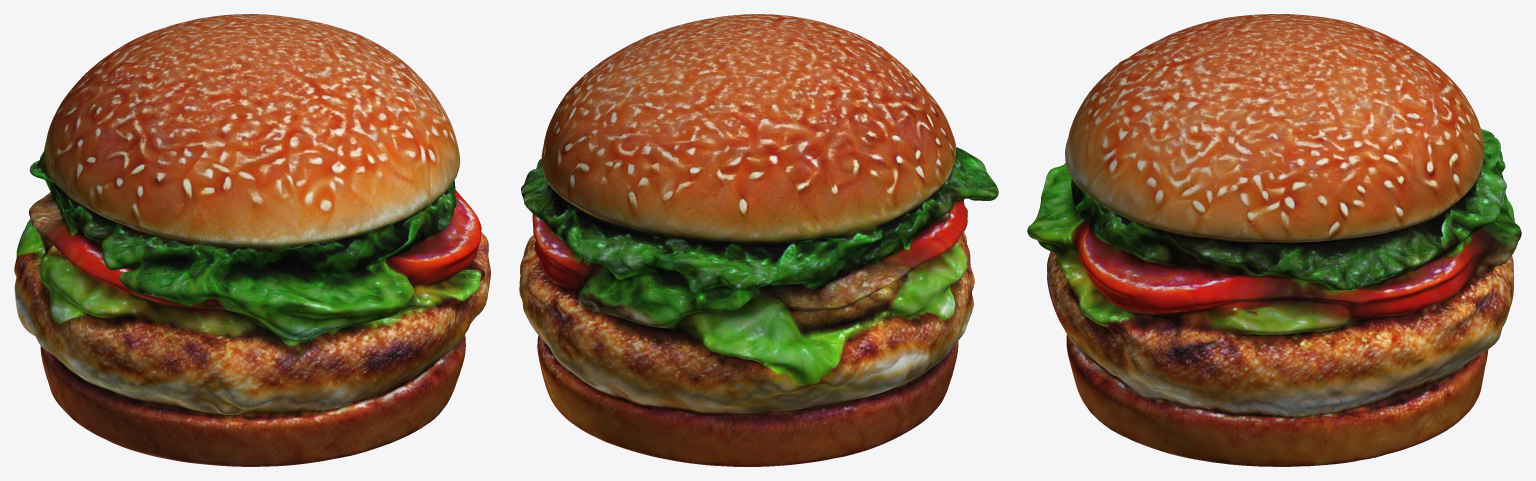
Rendered from burger.glb.
3 renders of one model, left to right at view 1: azimuth 30°, elevation 25°; view 2: azimuth 150°, elevation 25°; view 3: azimuth 270°, elevation 25°, orthographic.
Parts seen in each view (by area): view 1: burger; view 2: burger; view 3: burger.
Part boxes in pixels (x1,y1,x2,y2): burger: (14,14,490,466); burger: (519,14,998,466); burger: (1027,14,1521,466).
Bounding box in the file's own units: 1.27 × 1.04 × 1.35.
Materials: 1 (1 with a texture image).
